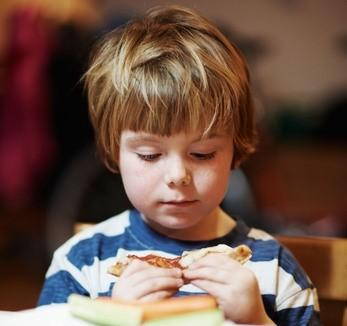Healthy: (101, 66, 261, 243)
